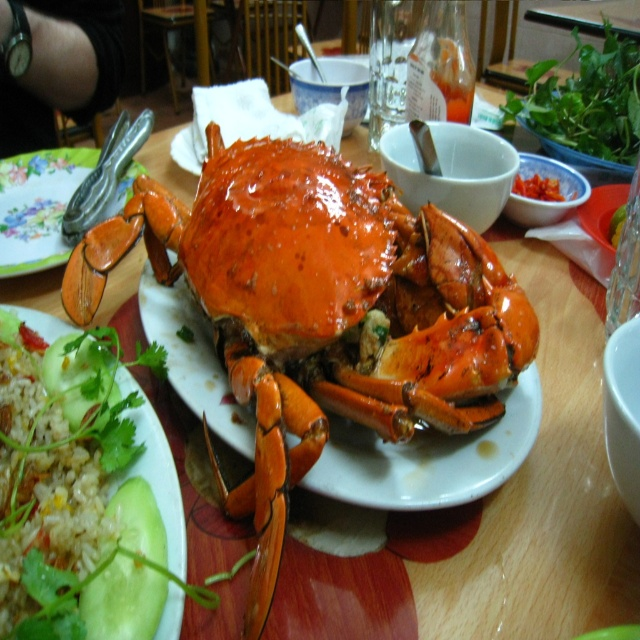Crab: (61, 122, 542, 639)
